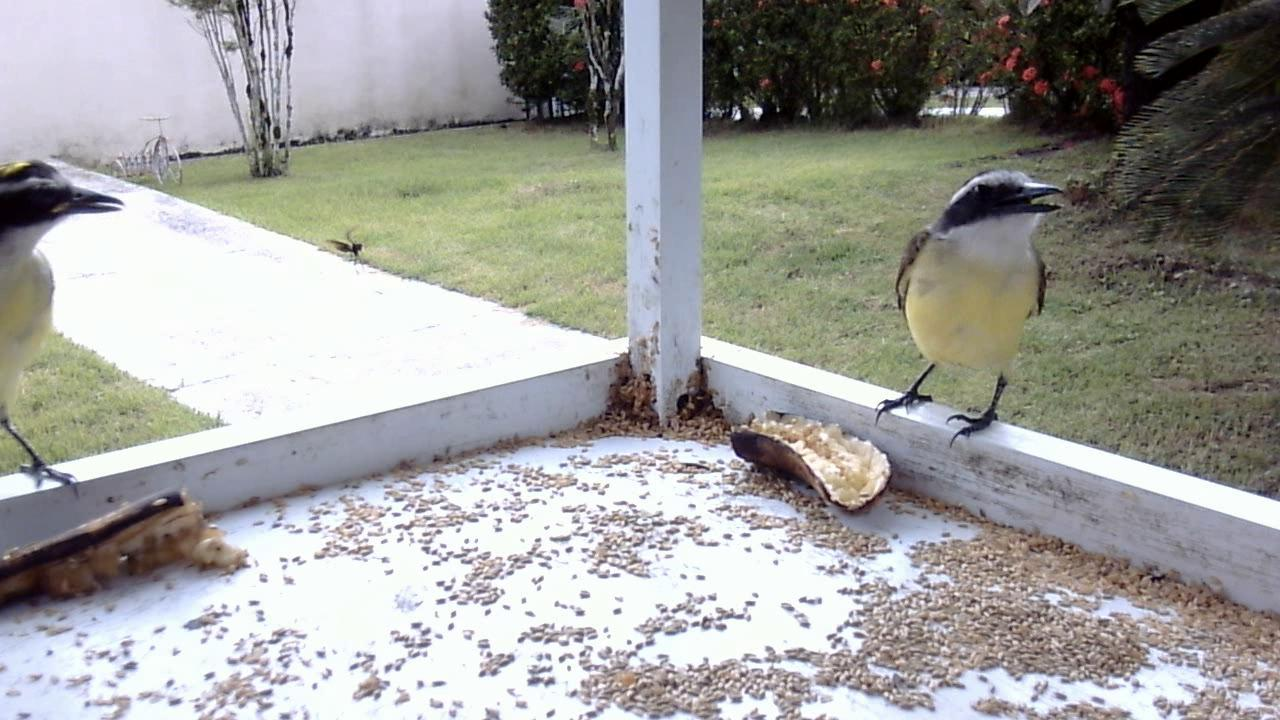bem_te_vi: (876, 168, 1071, 452), (3, 149, 133, 508)
